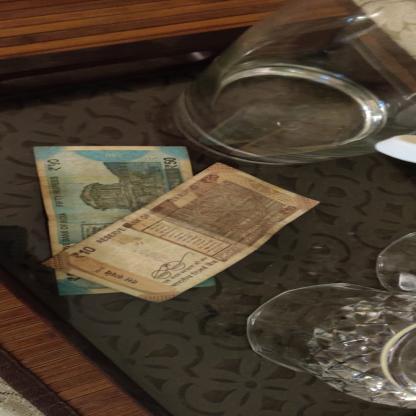New10Back: (40, 161, 321, 304)
New50Back: (32, 146, 218, 296)
